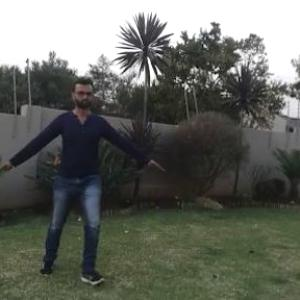land: (23, 85, 152, 244)
